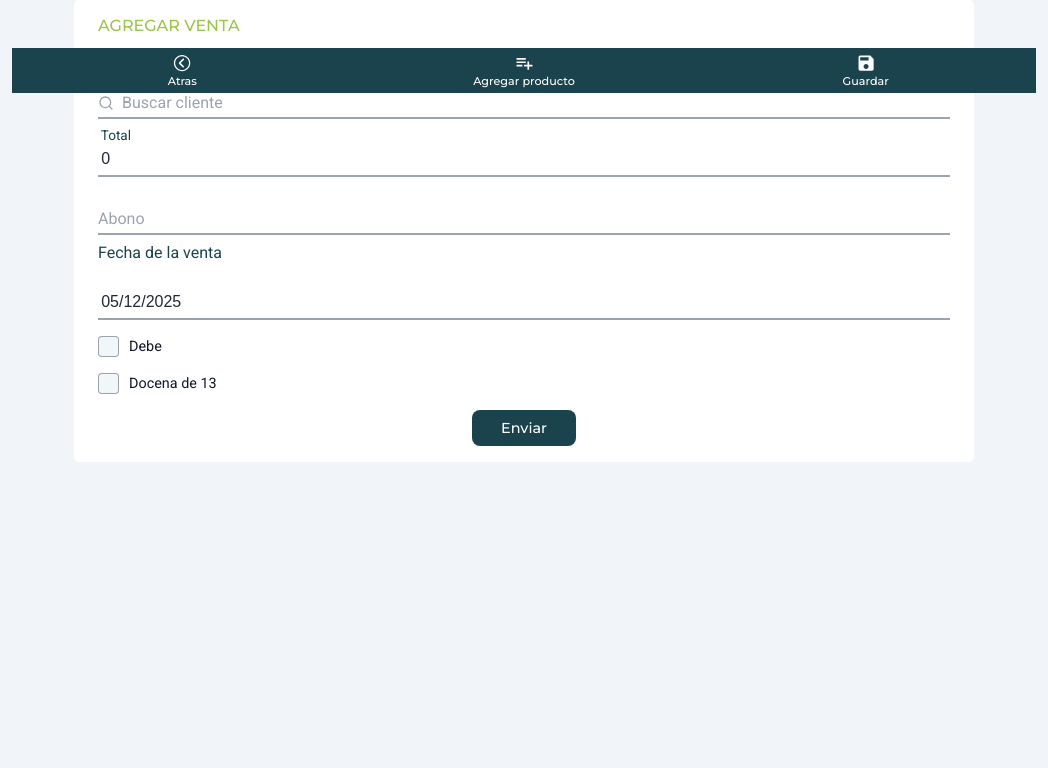
it: AddEditSalePage › Add Sale Mode › loads products options for the select field
Click the button "Agregar producto" at (524, 70), box x1=354 y1=48 x2=694 y2=93
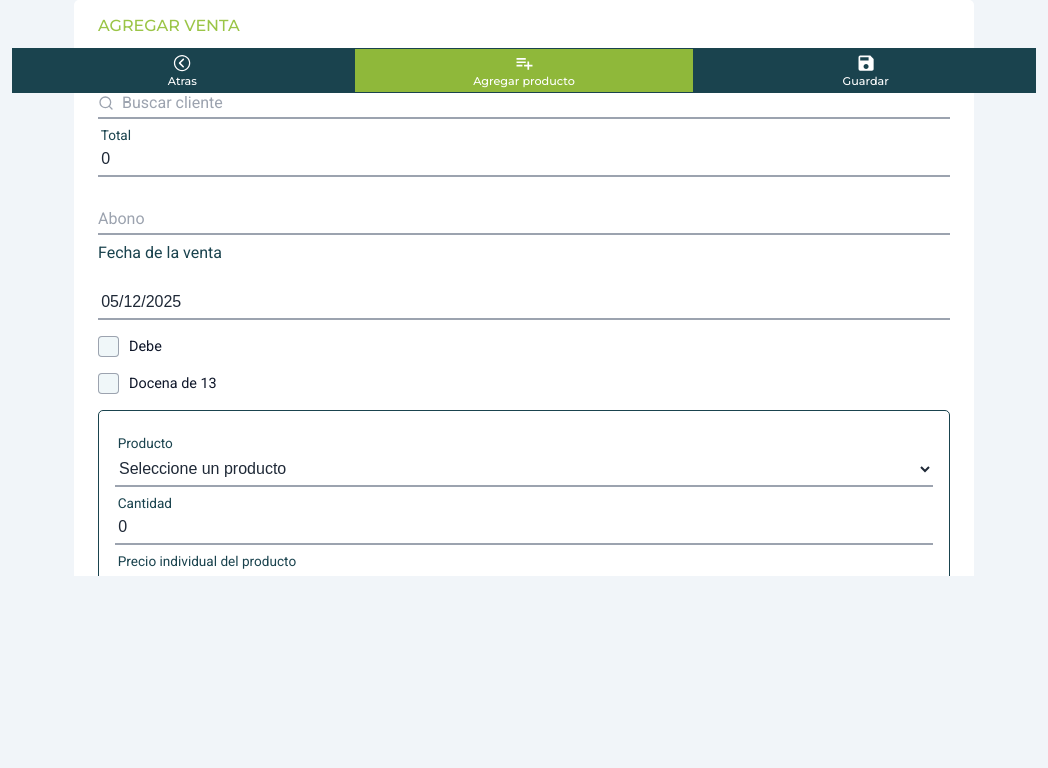
Result: the dropdown labelled "Producto" is shown at x1=115 y1=451 x2=933 y2=487
